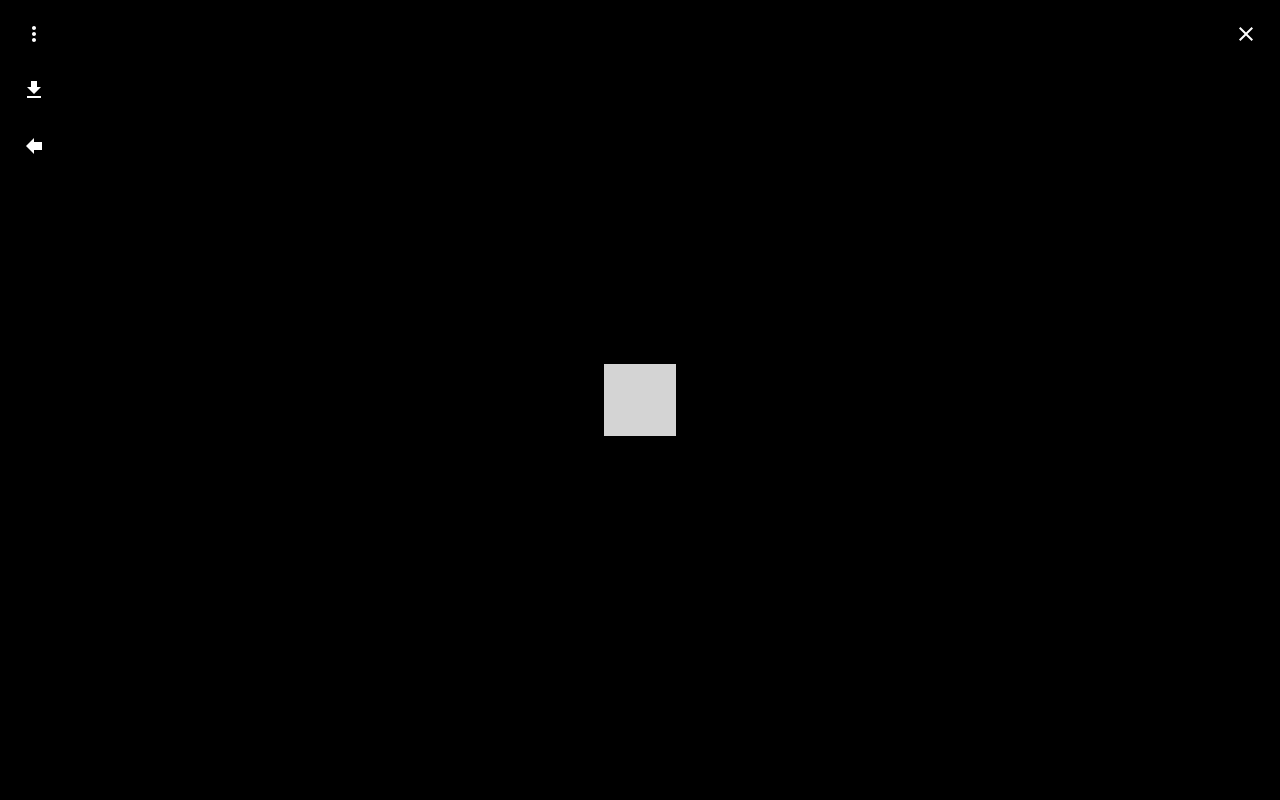
it: ImageViewer › forwards the image to another chat: the other chats, newest first, then that chat opens
Earlier steps of the test are not shown.
Click the menu item named "העברה לשיחה אחרת": click(34, 146) x1=12 y1=124 x2=56 y2=168
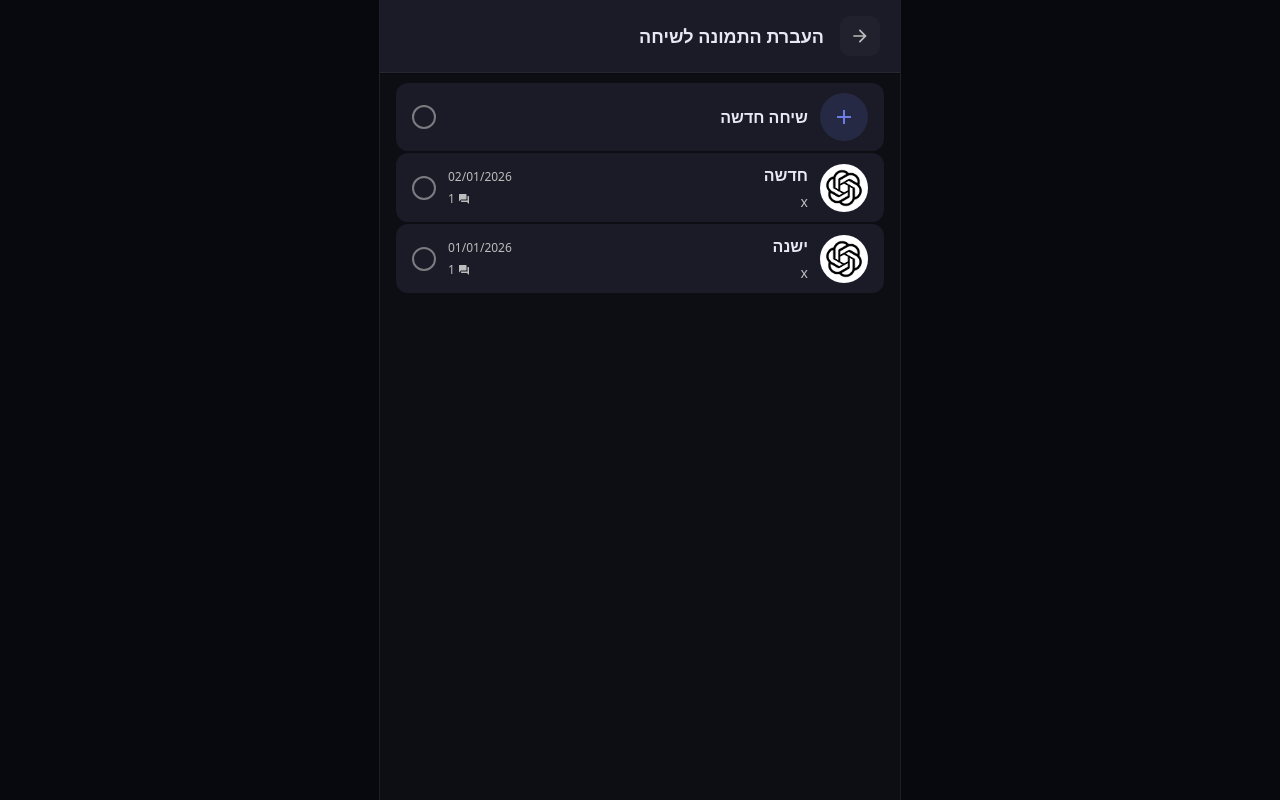
Check: the menu is gone
Check: the heading "העברת התמונה לשיחה" is shown, box x1=639 y1=24 x2=824 y2=48
Check: the radio button labelled "ישנה x 01/01/2026 1" is shown, box x1=396 y1=224 x2=884 y2=293
Click the radio button labelled "חדשה": click(640, 188) x1=396 y1=153 x2=884 y2=222
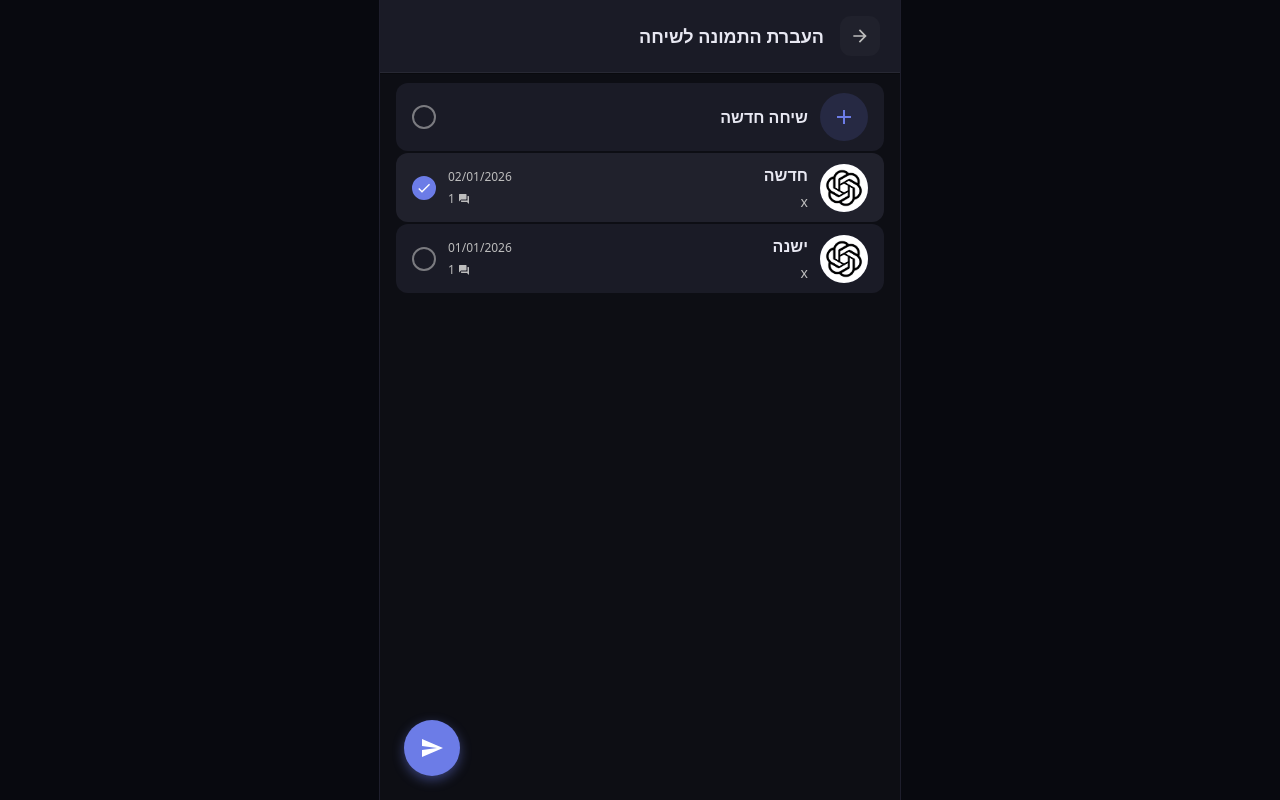
Check: the button named "אישור" is shown, box x1=404 y1=720 x2=460 y2=776
# One row at a time
Click the radio button labelled "ישנה": click(640, 258) x1=396 y1=224 x2=884 y2=293
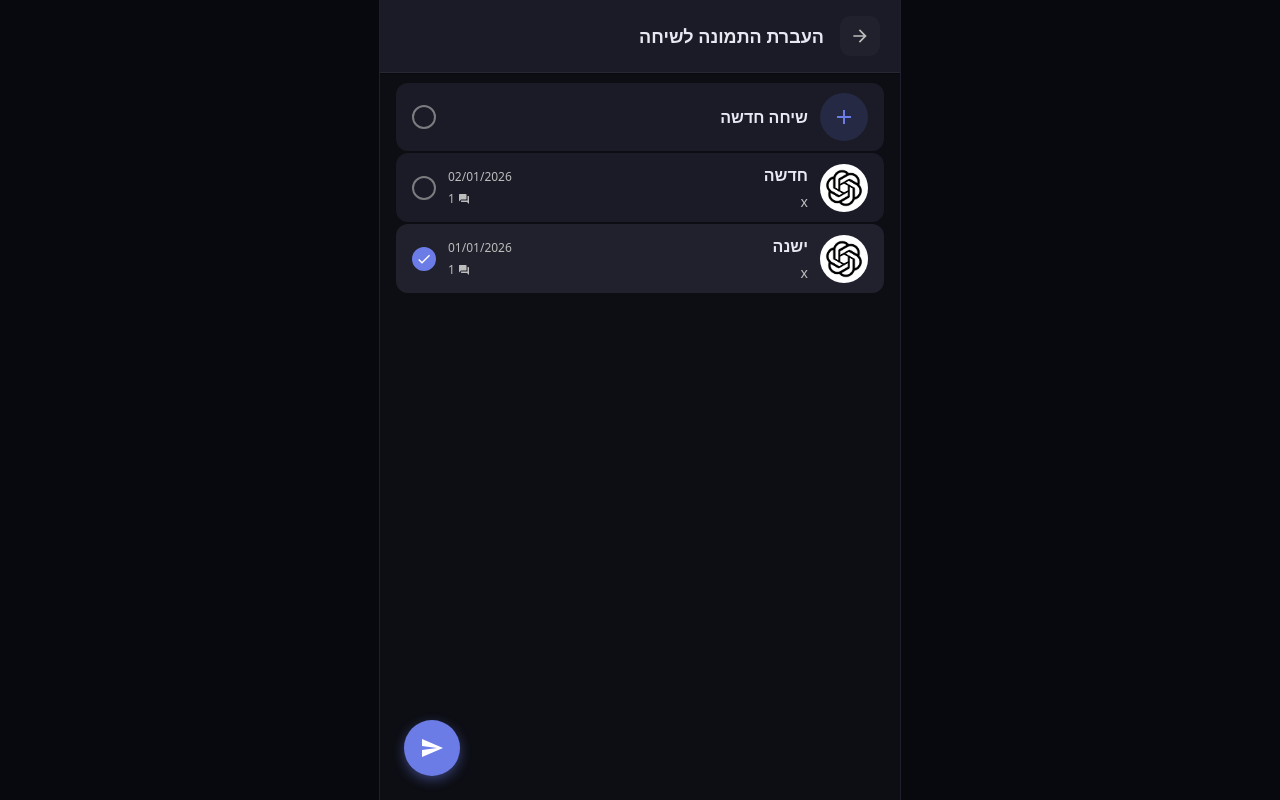
Check: the radio button labelled "חדשה" is not checked, box x1=396 y1=153 x2=884 y2=222
Check: the radio button labelled "ישנה" is checked
# A second click on the selected row clears it
Click the radio button labelled "ישנה": click(640, 258) x1=396 y1=224 x2=884 y2=293
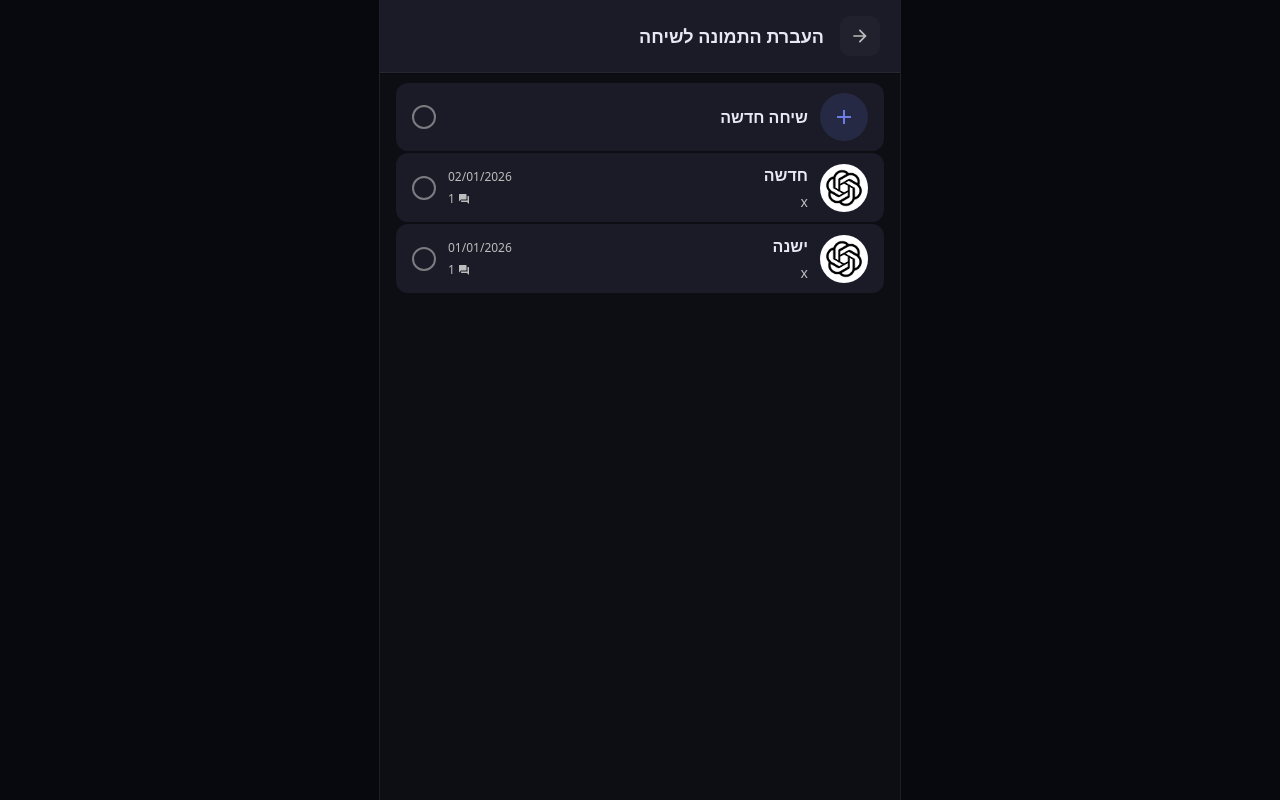
Check: the element with test id "chat-picker" is shown, box x1=380 y1=0 x2=900 y2=799
Check: the button "אישור" is gone
Click the radio button labelled "ישנה": click(640, 258) x1=396 y1=224 x2=884 y2=293
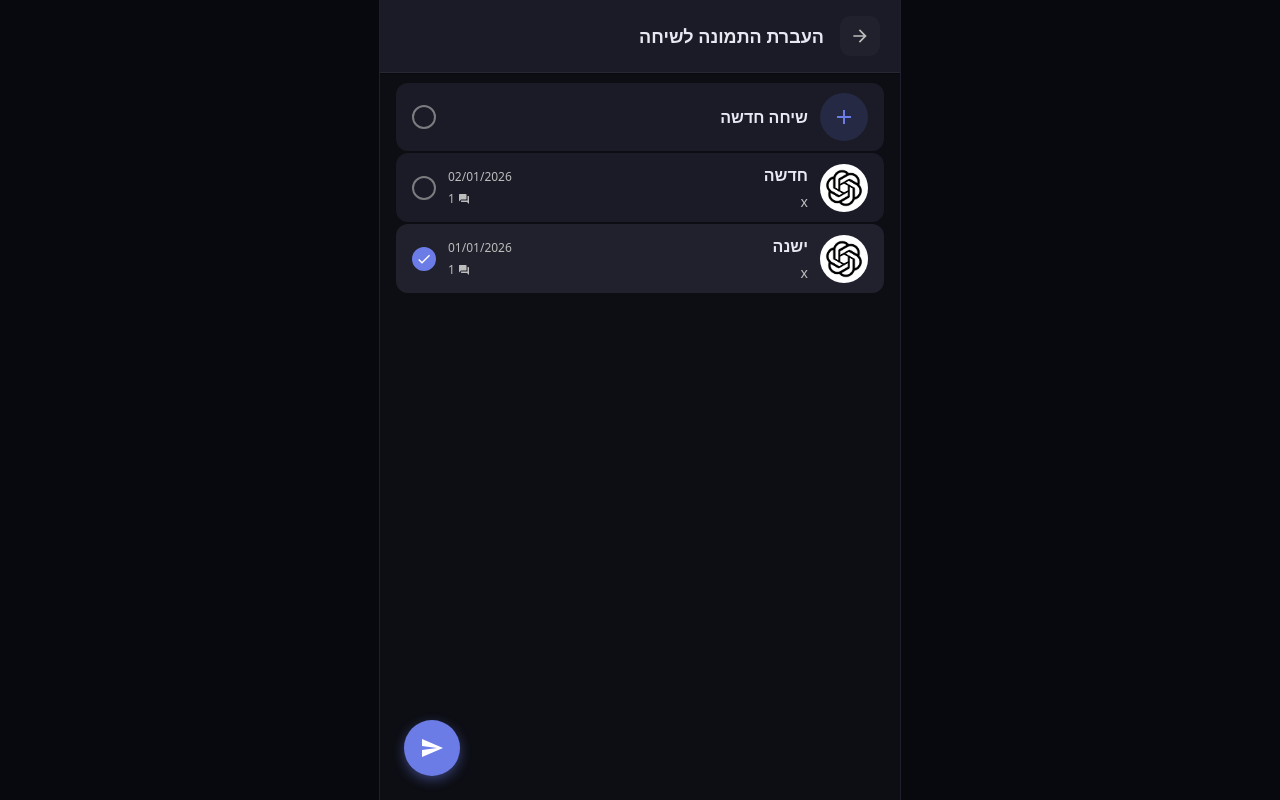
Click the button named "אישור": click(432, 748) x1=404 y1=720 x2=460 y2=776
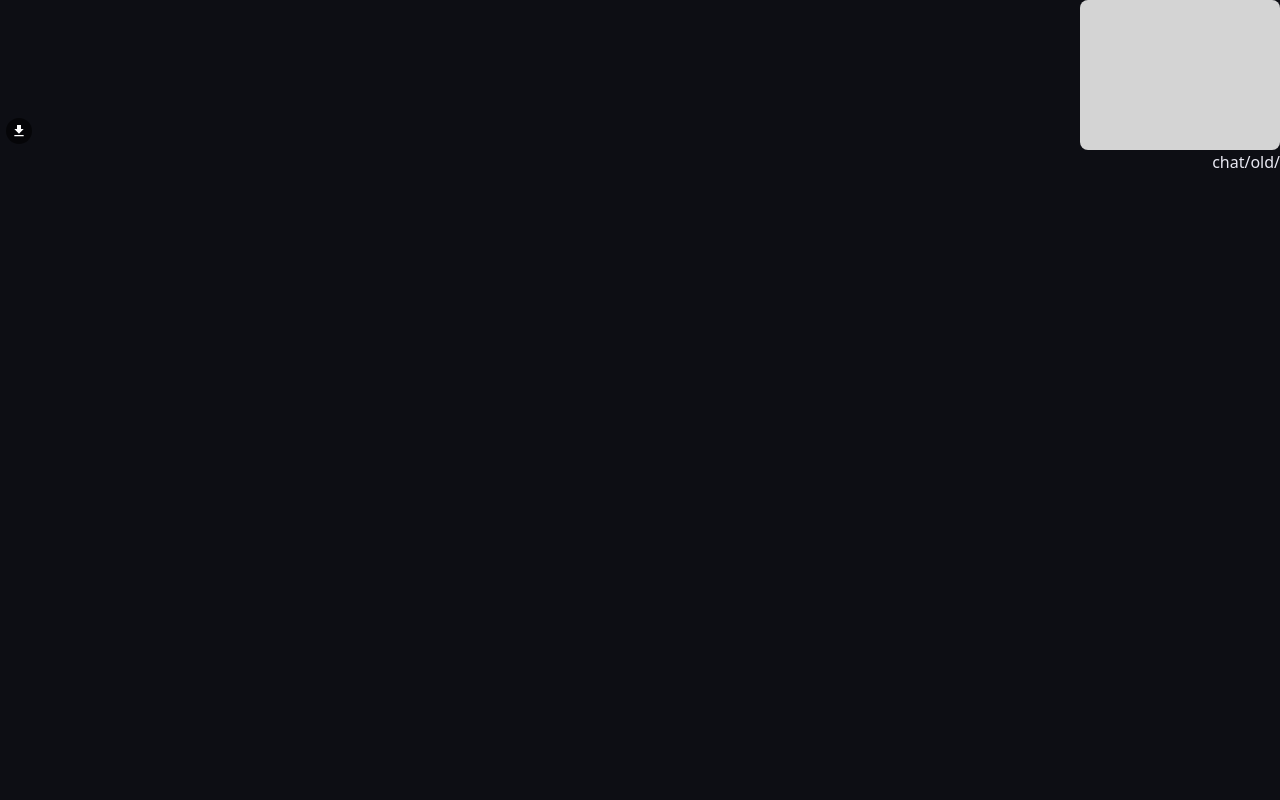
Check: the text with test id "where" reads "/chat/old", box x1=1212 y1=151 x2=1279 y2=173
Check: the dialog with test id "image-viewer" is gone
